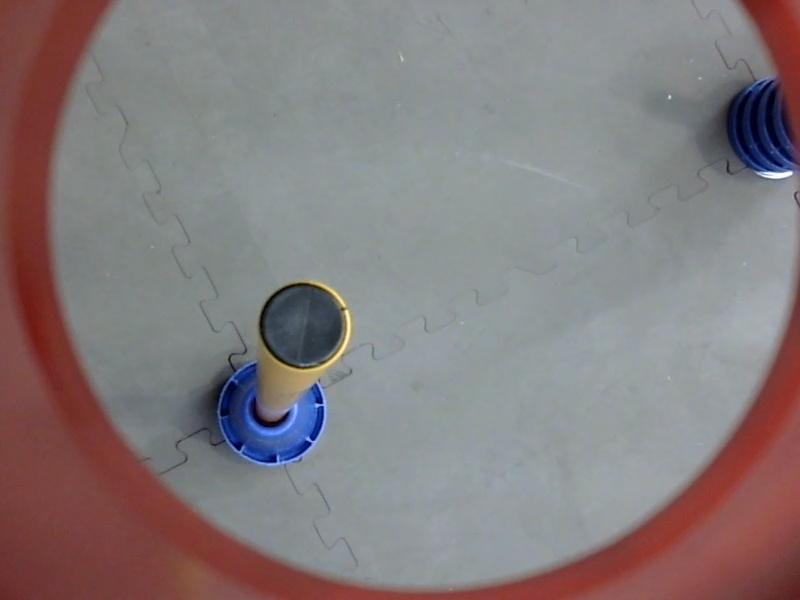tip: (249, 275, 357, 375)
